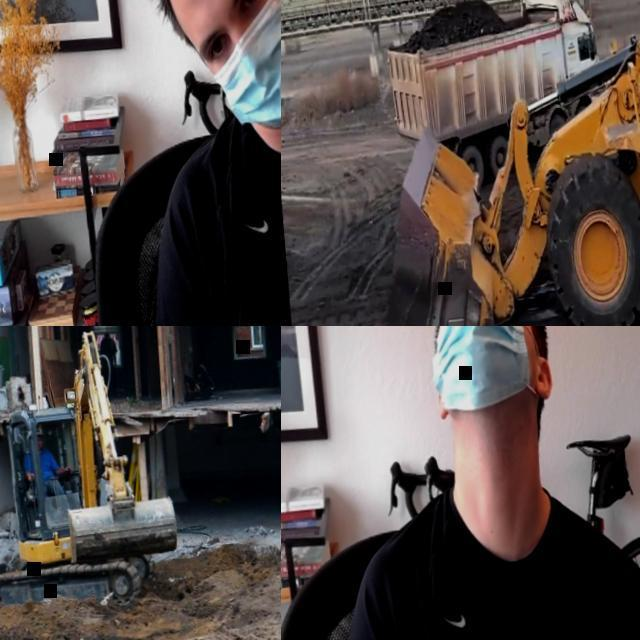no_helmet: (424, 318, 564, 476), (168, 0, 298, 147), (32, 425, 44, 436)
